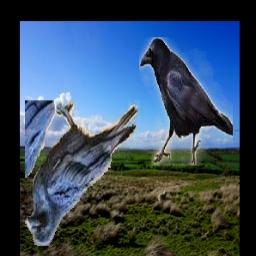Crow: (25, 101, 140, 247), (140, 37, 234, 166)
